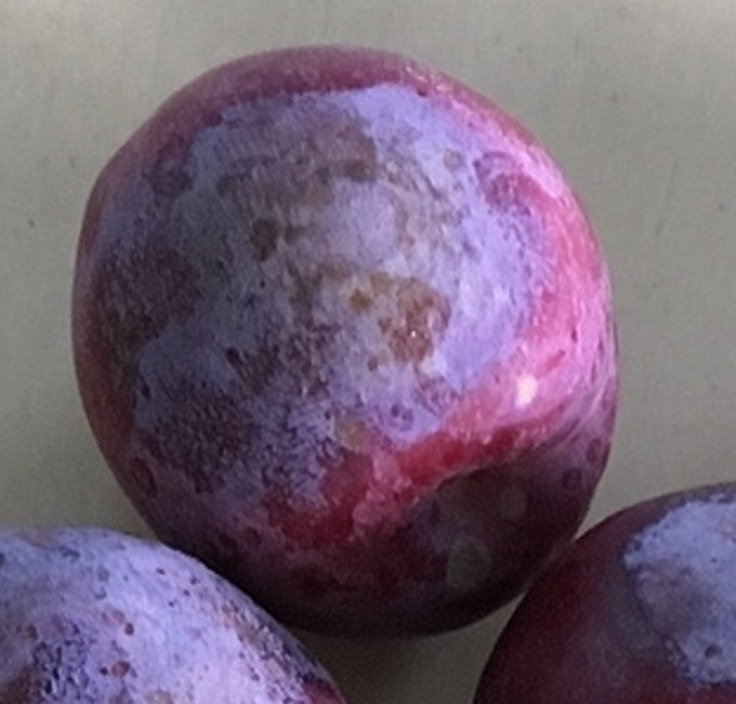plum_B: (71, 45, 622, 639)
